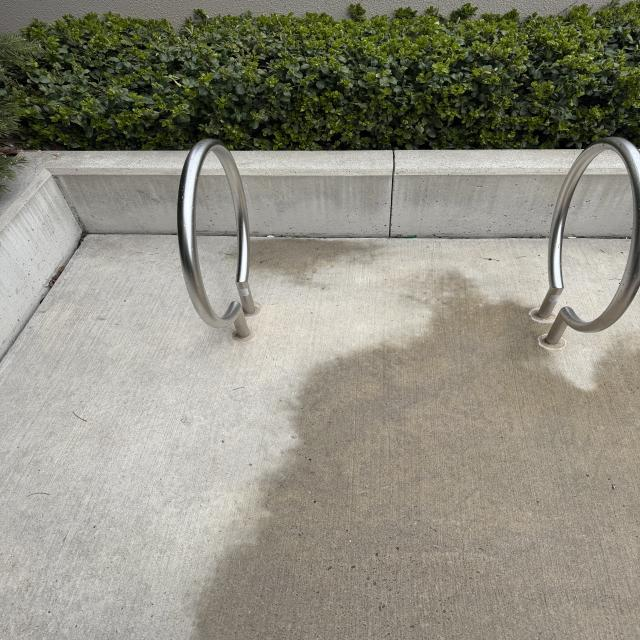Bicycle Rack: (534, 133, 640, 348), (176, 137, 261, 340)
